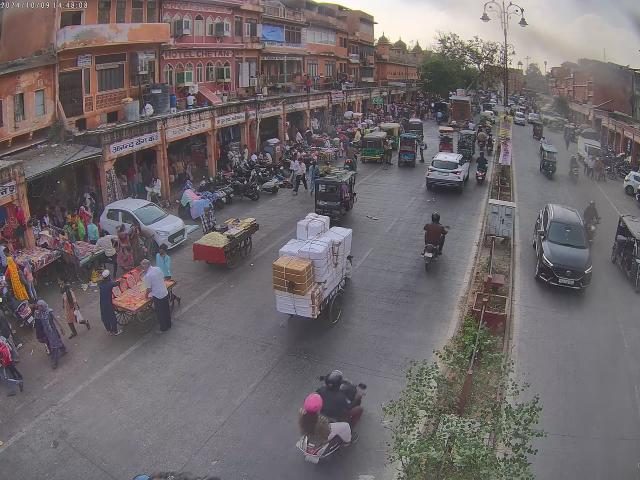auto: (610, 213, 640, 296), (310, 167, 358, 218), (424, 152, 470, 194), (396, 133, 424, 168), (358, 132, 388, 164), (538, 145, 559, 178), (437, 127, 457, 151)
car: (534, 203, 596, 294), (100, 197, 190, 255)
helmet: (303, 393, 323, 414), (324, 369, 344, 389), (430, 212, 441, 223), (589, 200, 595, 207)
license_plate: (305, 454, 320, 464), (559, 278, 574, 286), (438, 171, 449, 176), (424, 253, 432, 257)
motorbike-rider: (420, 212, 450, 274), (582, 201, 600, 241), (474, 152, 488, 182)
rickshow: (270, 226, 355, 332)
scooty-rider: (293, 369, 367, 465), (568, 154, 582, 178)
vendor: (110, 254, 178, 334), (192, 218, 258, 272)
